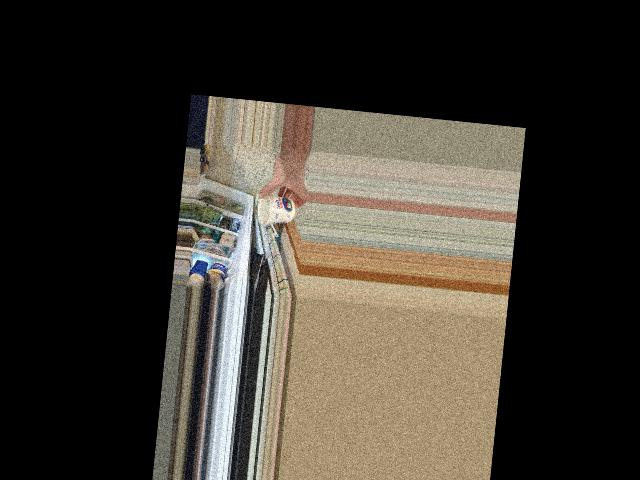cotage: (256, 193, 296, 227)
